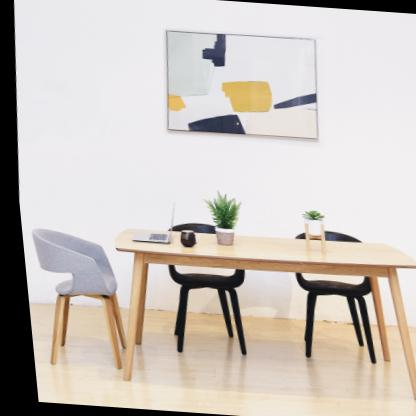Dining Table: (15, 193, 416, 408)
Frame: (155, 27, 327, 144)
Wooden floor: (23, 285, 416, 416)
